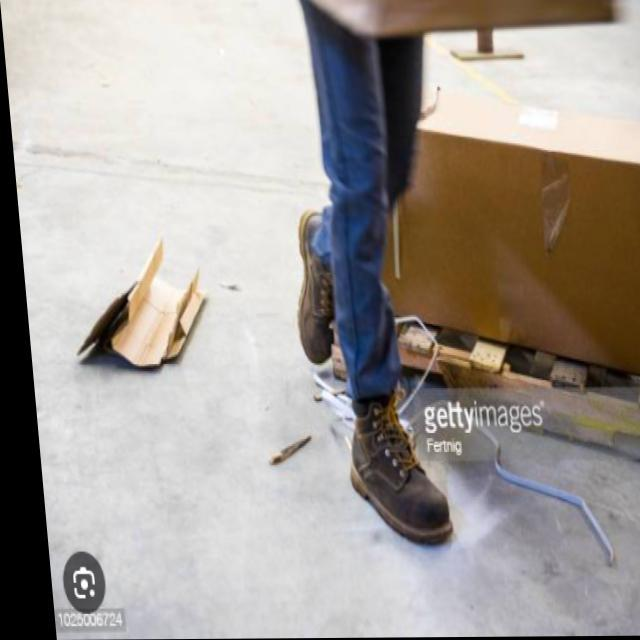shoes: (287, 203, 459, 552)
